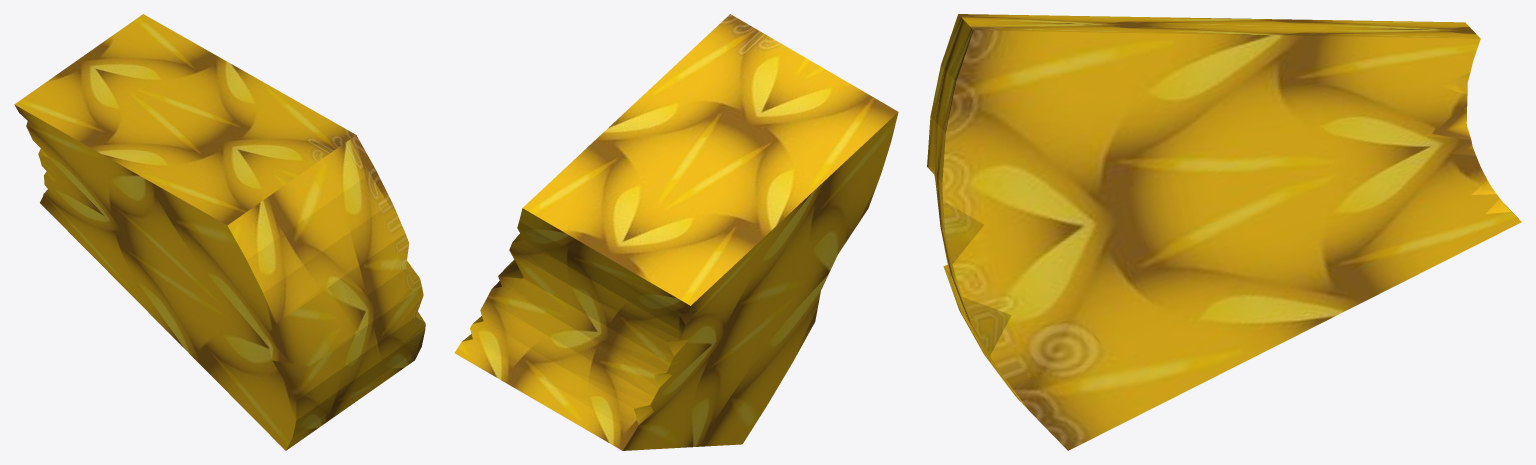
Rendered from pineapple_model.glb.
3 views of the same model, side by side, from view 1: azimuth 30°, elevation 25°; view 2: azimuth 150°, elevation 25°; view 3: azimuth 270°, elevation 25° (orthographic). The views are drawn at different scales.
Parts seen in each view (by area): view 1: Cube.001; view 2: Cube.001; view 3: Cube.001.
Boxes of the visible parts, x1,y1,x2,y2 form: Cube.001: (14,14,425,450); Cube.001: (454,14,898,450); Cube.001: (927,14,1521,450).
Bounding box in the file's own units: 1.27 × 1.6 × 2.
Materials: 1 (1 with a texture image).
